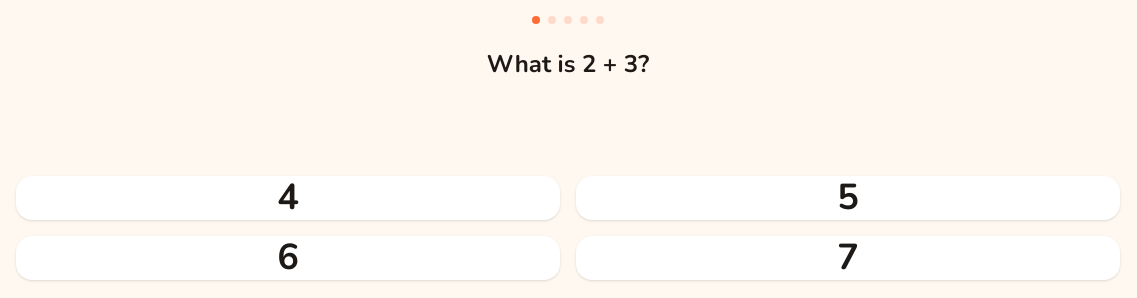
Test: FEED-03: Encouragement after 1st wrong answer › shows encouragement phrase after first wrong answer (orange text-primary)
Step 1. Click the button "4" → (288, 198), box [16,176,560,220]
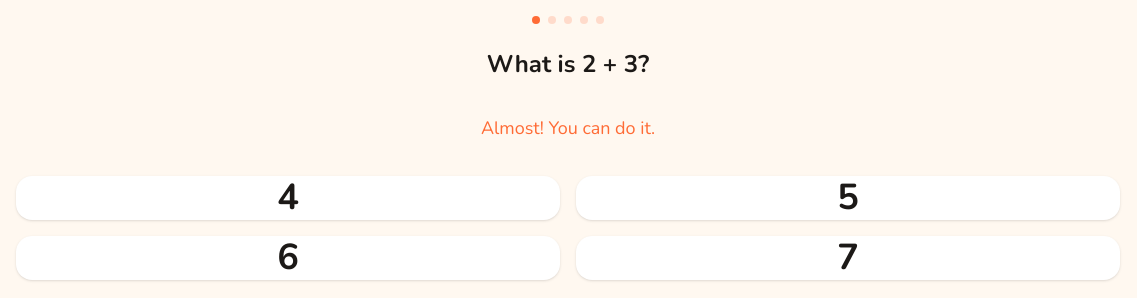
Expected: the text "Almost! You can do it." is shown, [481,114,655,142]
